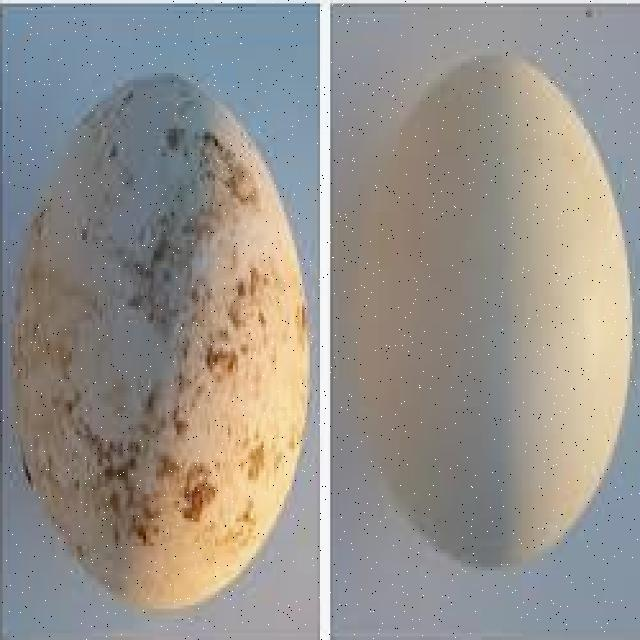Blood Stained Egg: (0, 56, 315, 630)
White Egg: (332, 35, 640, 601)
